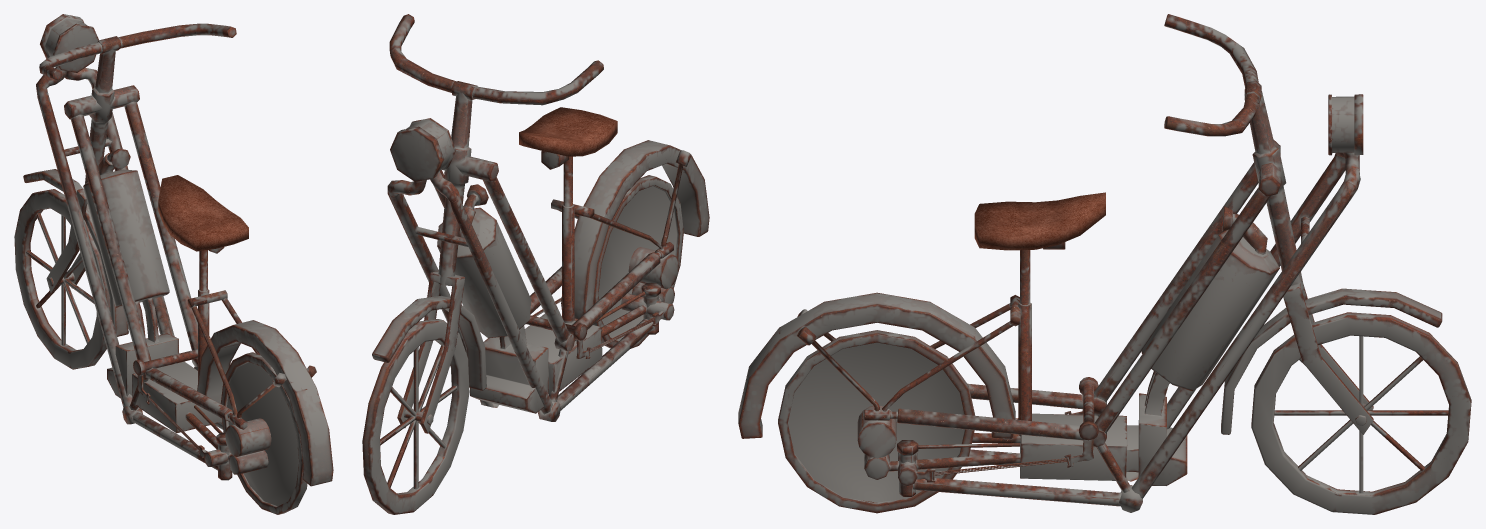
Rendered from sepeda-daimler.glb.
The picture shows the model from 3 angles, left to right: view 1: azimuth 30°, elevation 25°; view 2: azimuth 150°, elevation 25°; view 3: azimuth 270°, elevation 25°; orthographic projection. The views are drawn at different scales.
Visible parts, largest first — view 1: seepda-daimler-mesh; view 2: seepda-daimler-mesh; view 3: seepda-daimler-mesh.
Boxes of the visible parts, x1,y1,x2,y2 form: seepda-daimler-mesh: (14, 14, 333, 514); seepda-daimler-mesh: (362, 14, 709, 514); seepda-daimler-mesh: (738, 14, 1471, 514).
Size of the model in its own units: 0.3651 by 0.7104 by 1.05.
Materials: 1 (1 with a texture image).
